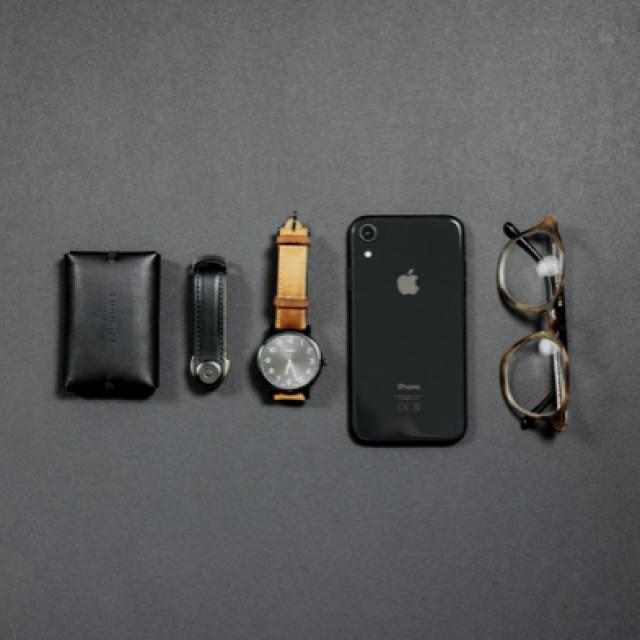cellphone: (346, 213, 468, 446)
